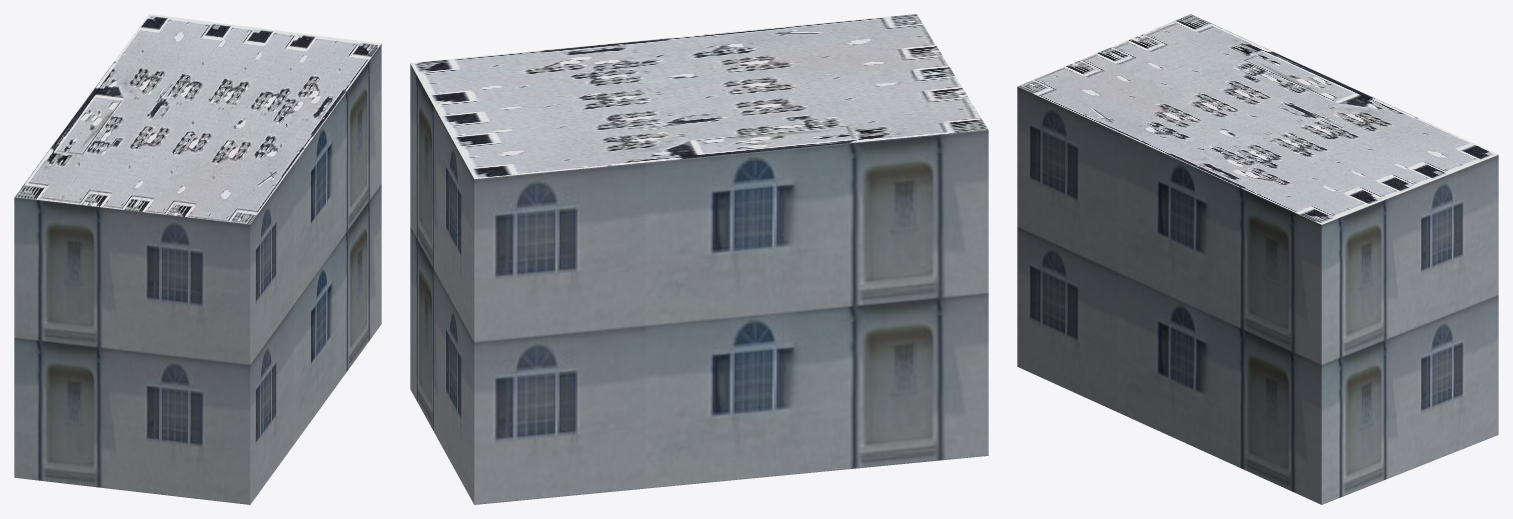
The model's file is ResTex__18.fbx.
3 views of the same model, side by side, from view 1: azimuth 30°, elevation 25°; view 2: azimuth 150°, elevation 25°; view 3: azimuth 270°, elevation 25° (orthographic). The views are drawn at different scales.
Parts seen in each view (by area): view 1: CityEngineMaterial_17_m, CityEngineMaterial_4_m; view 2: CityEngineMaterial_17_m, CityEngineMaterial_4_m; view 3: CityEngineMaterial_17_m, CityEngineMaterial_4_m.
Part boxes in pixels (x1,y1,x2,y2): CityEngineMaterial_17_m: [14, 44, 381, 504]; CityEngineMaterial_4_m: [15, 14, 380, 224]; CityEngineMaterial_17_m: [410, 64, 988, 504]; CityEngineMaterial_4_m: [410, 14, 988, 178]; CityEngineMaterial_17_m: [1017, 86, 1498, 504]; CityEngineMaterial_4_m: [1018, 14, 1497, 224].
Size of the model in its own units: 9.68 by 6 by 9.34.
2 materials, 2 textured.
